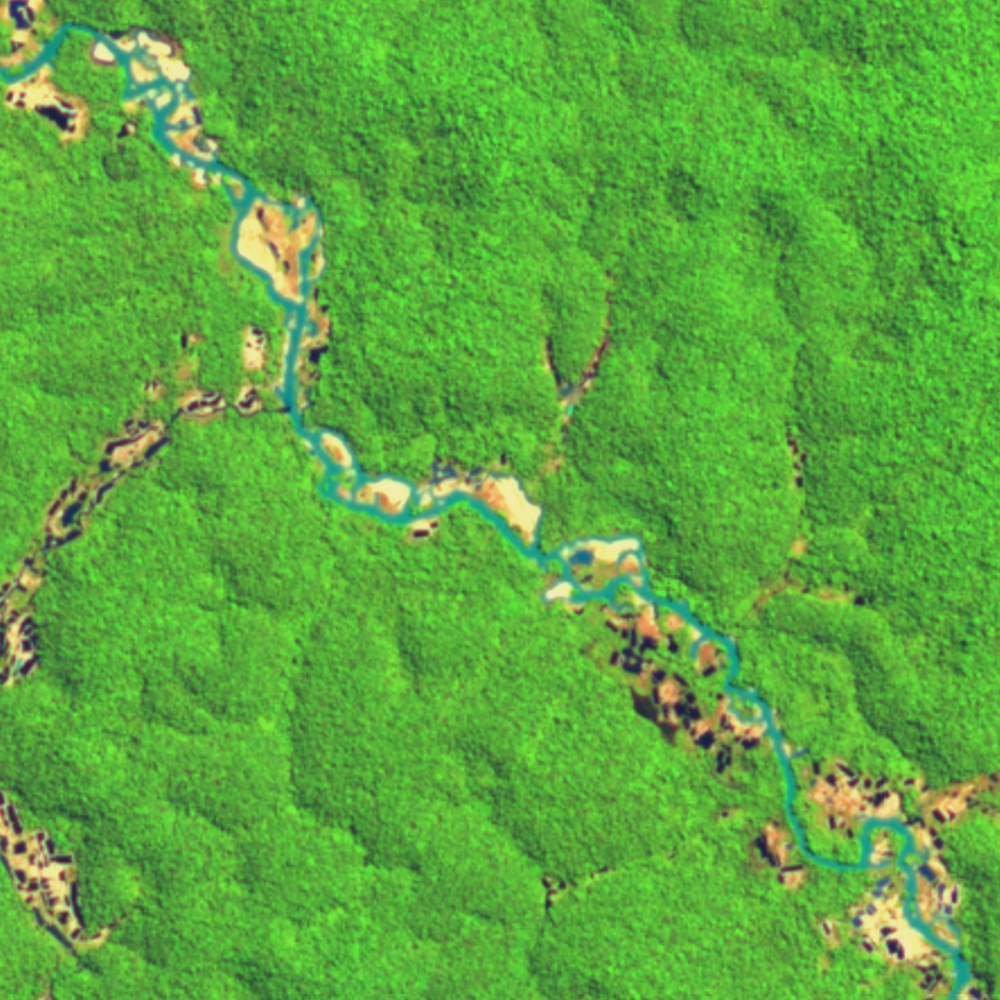illegal: (1, 325, 228, 696), (538, 532, 798, 785), (780, 745, 1000, 1000), (290, 428, 550, 555), (738, 420, 884, 634), (220, 183, 341, 424), (1, 785, 142, 976), (89, 21, 238, 199), (534, 265, 622, 481), (1, 1, 97, 149), (716, 796, 813, 899), (529, 851, 629, 916)
